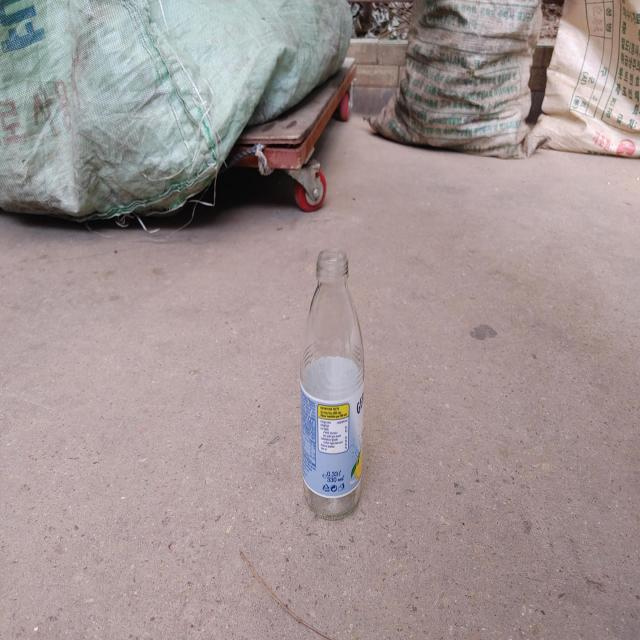glass: (301, 250, 365, 520)
